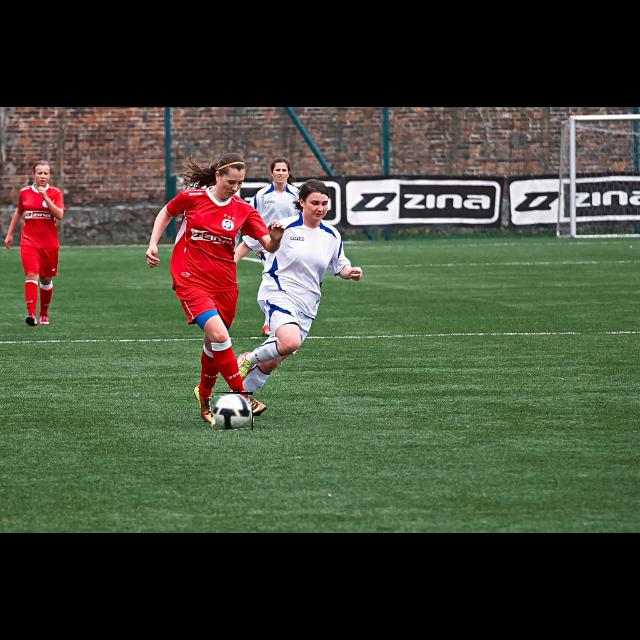Football: (211, 392, 253, 430)
